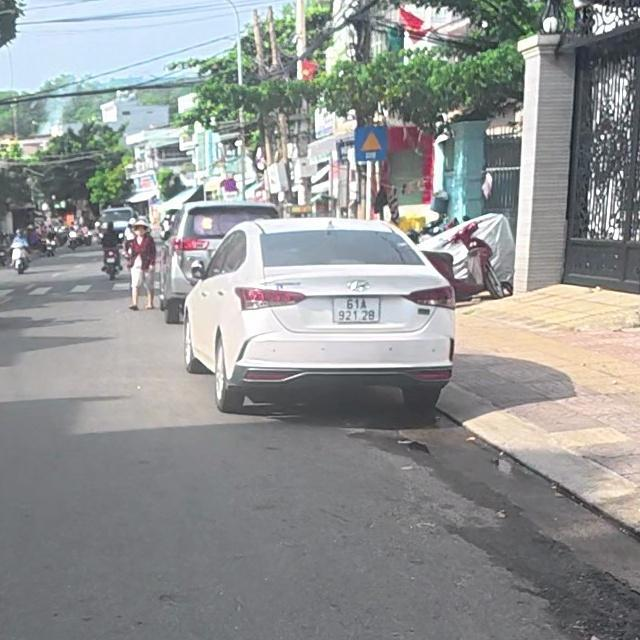car: (180, 214, 457, 422)
motorcycle: (5, 242, 33, 277)
plate: (328, 292, 384, 328)
